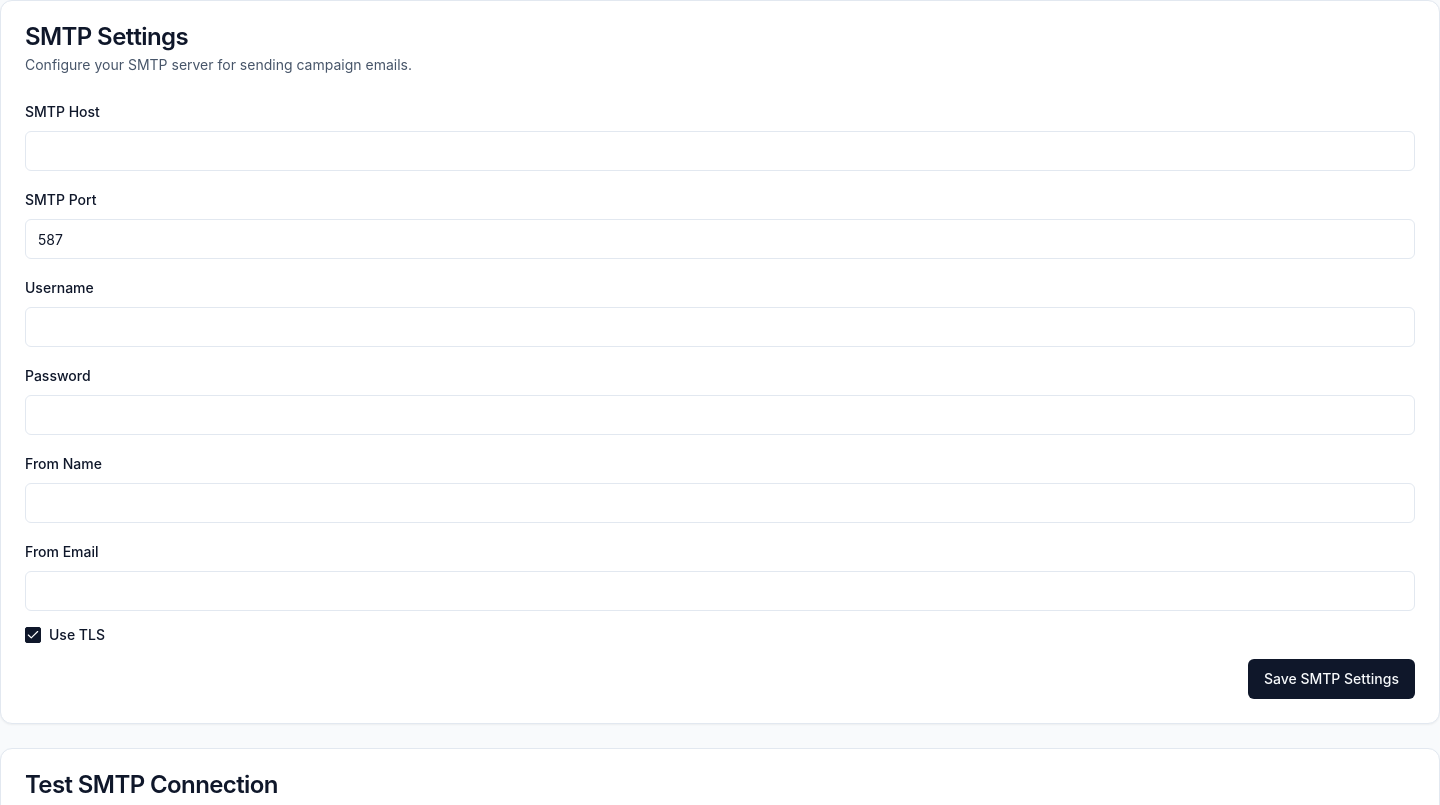
Scenario: SmtpPage › validates SMTP form before save
Click the button "Save SMTP Settings".
click(1331, 679)  # box [1248,659,1415,699]
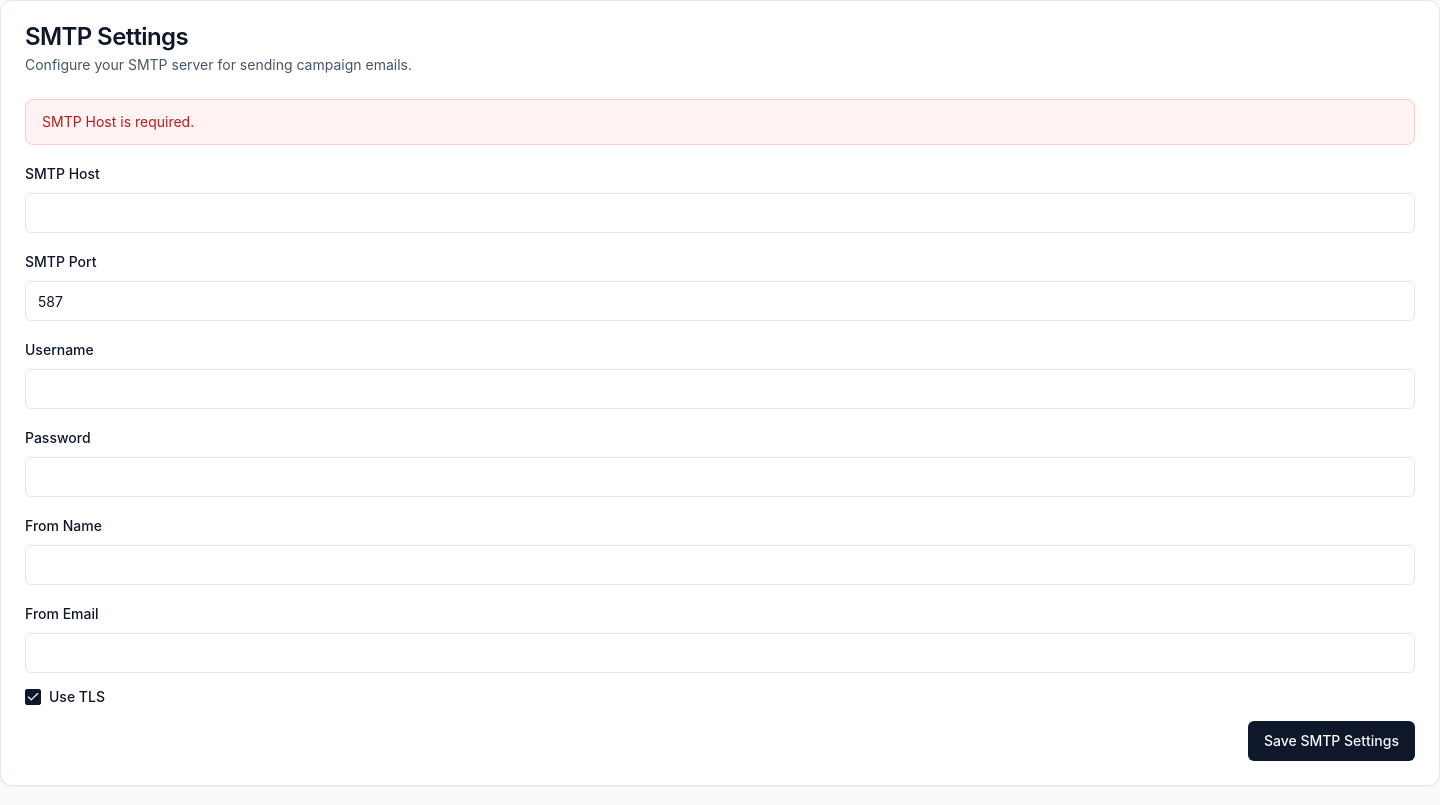
Expected: the text "SMTP Host is required." is shown, [25,99,1415,145]
